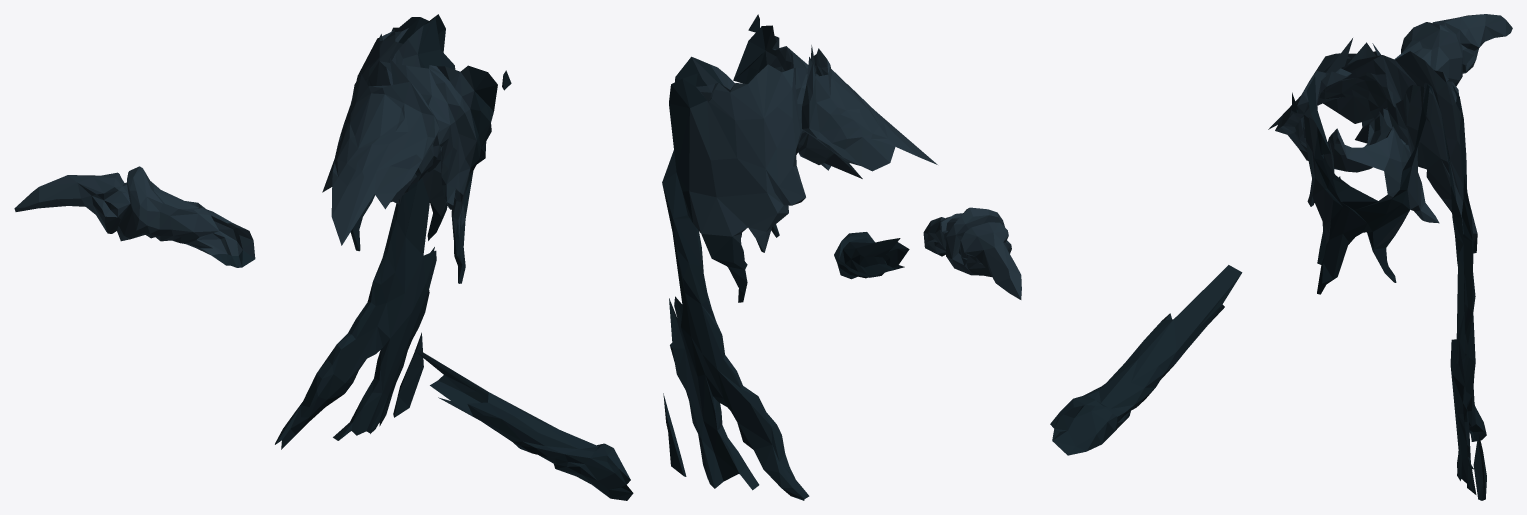
The model's file is reaper_arm_r.obj.
3 views of the same model, side by side, from view 1: azimuth 30°, elevation 25°; view 2: azimuth 150°, elevation 25°; view 3: azimuth 270°, elevation 25° (orthographic). The views are drawn at different scales.
Parts seen in each view (by area): view 1: Reaper_RightArm; view 2: Reaper_RightArm; view 3: Reaper_RightArm.
Boxes of the visible parts, x1,y1,x2,y2 form: Reaper_RightArm: (14,14,633,500); Reaper_RightArm: (662,14,1021,500); Reaper_RightArm: (1050,14,1512,500).
Size of the model in its own units: 0.618 by 0.642 by 0.6147.
